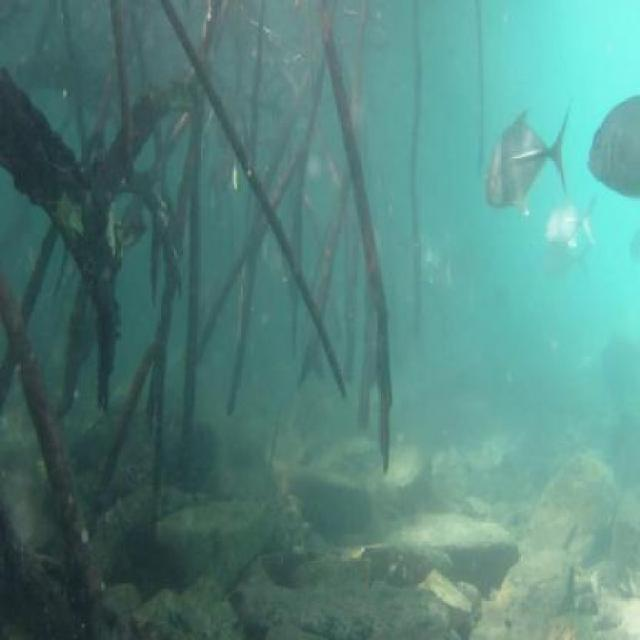Caranx_sexfasciatus_juvenile: (485, 100, 570, 215), (583, 82, 640, 206), (532, 236, 598, 299), (542, 191, 595, 251), (418, 243, 457, 314), (200, 139, 242, 203), (212, 94, 251, 149)
